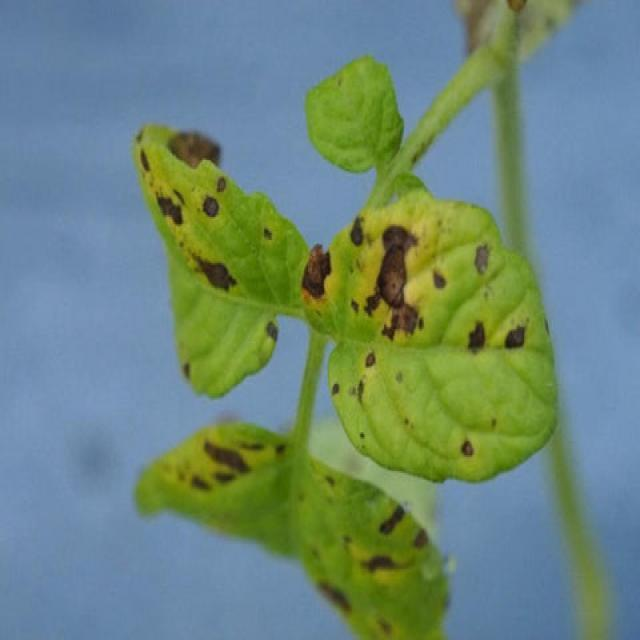Bacterial Spot: (344, 221, 533, 461), (140, 142, 249, 304)
